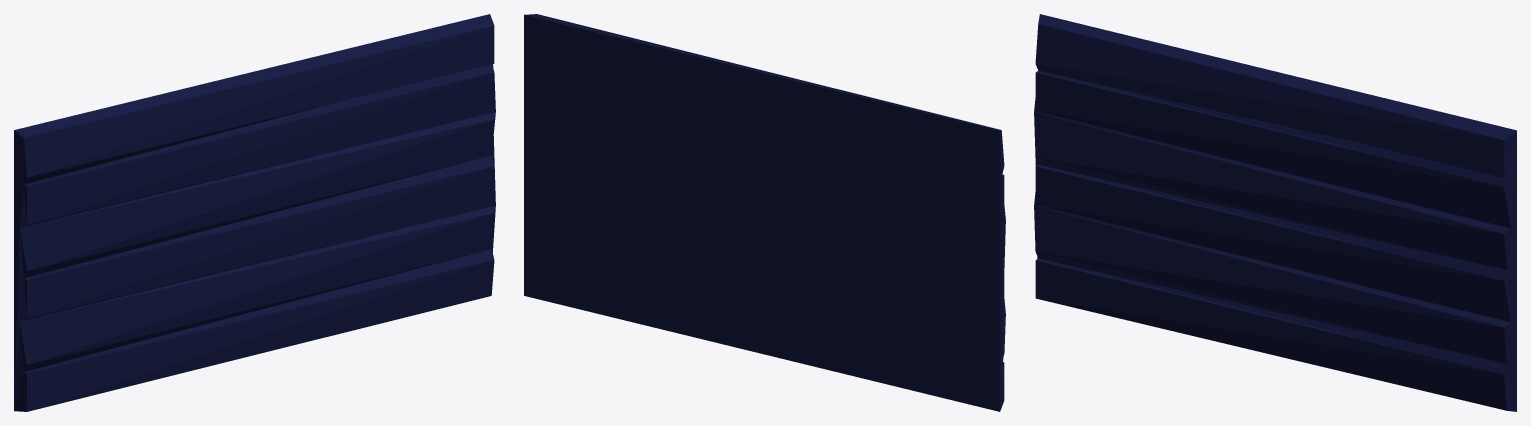
Rendered from hosp-dir-sign.lod2.glb.
3 renders of one model, left to right at view 1: azimuth 30°, elevation 25°; view 2: azimuth 150°, elevation 25°; view 3: azimuth 330°, elevation 25°, orthographic.
Visible parts, largest first — view 1: defaultMaterial; view 2: defaultMaterial; view 3: defaultMaterial.
Boxes of the visible parts, x1,y1,x2,y2 form: defaultMaterial: (14, 14, 495, 411); defaultMaterial: (524, 14, 1005, 411); defaultMaterial: (1034, 14, 1516, 411).
Size of the model in its own units: 1 by 0.564 by 0.0313.
